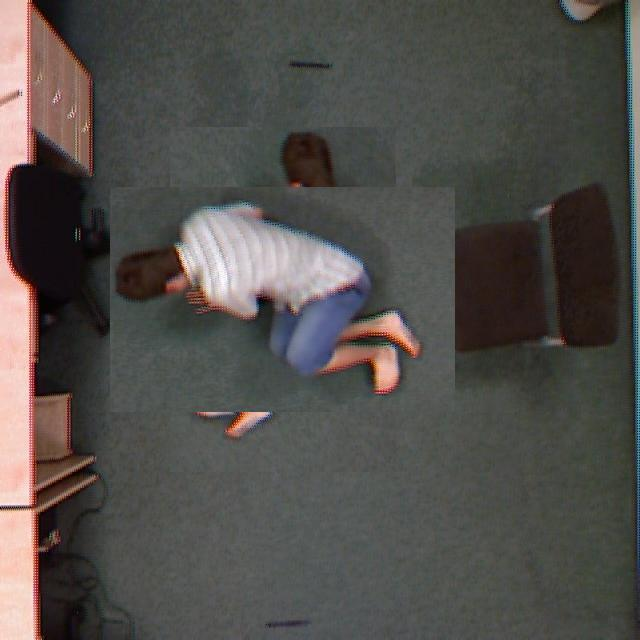Fall: (104, 198, 407, 385)
